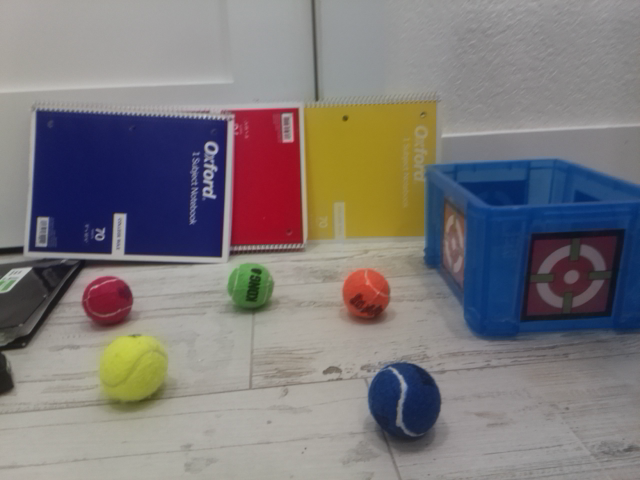blue-ball: (367, 361, 442, 440)
drop-bin: (521, 229, 626, 320)
green-ball: (226, 262, 275, 310)
orange-ball: (342, 268, 391, 320)
red-ball: (81, 275, 134, 326)
yellow-ball: (99, 334, 168, 403)
